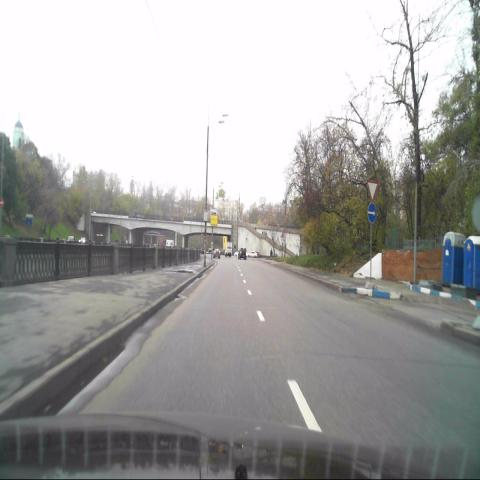4_1_2_1: (367, 202, 377, 225)
